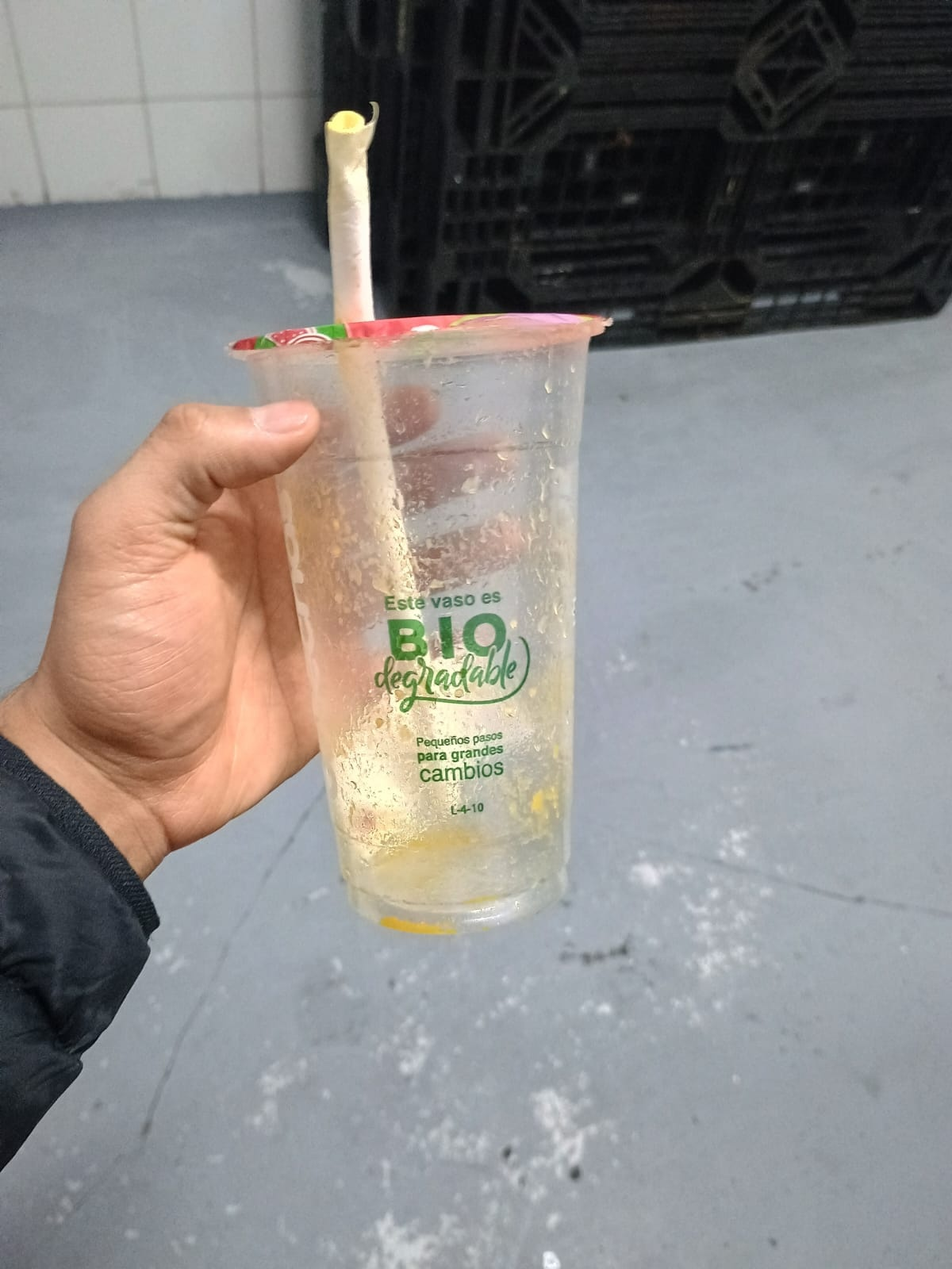Plastico: (228, 310, 609, 934)
